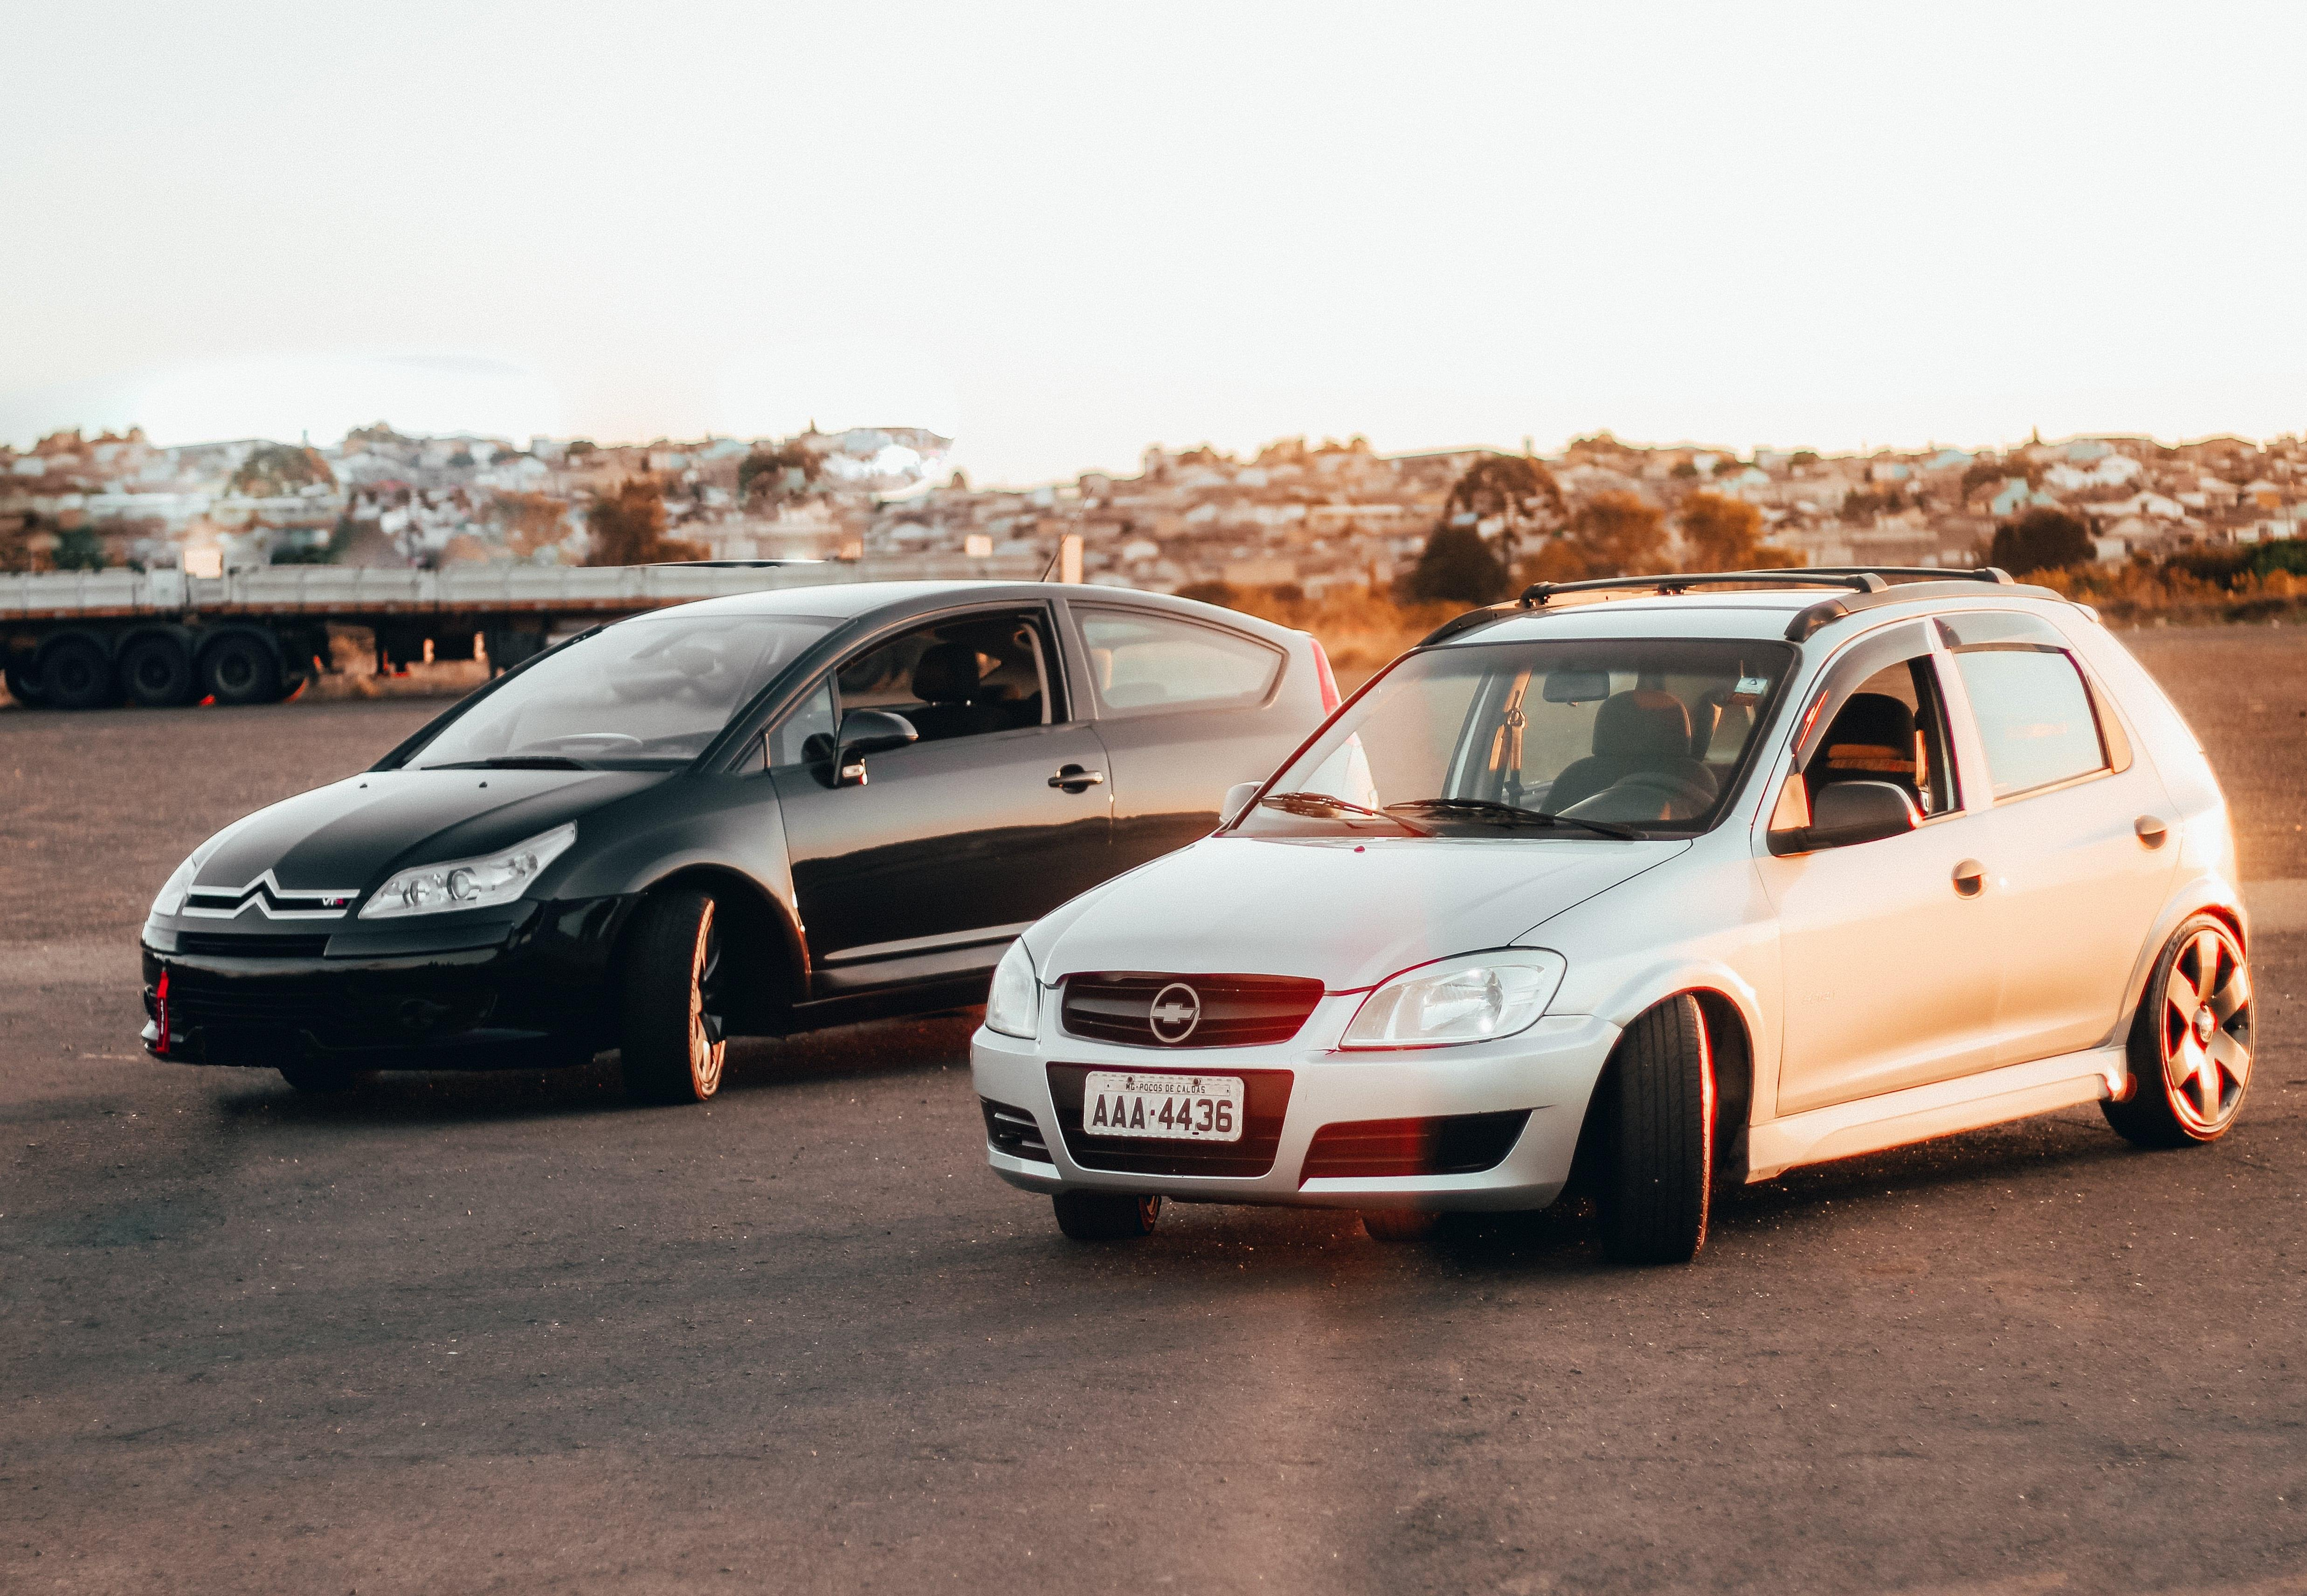Citroen: (223, 853, 298, 939)
chevrolet: (1125, 974, 1217, 1051)
